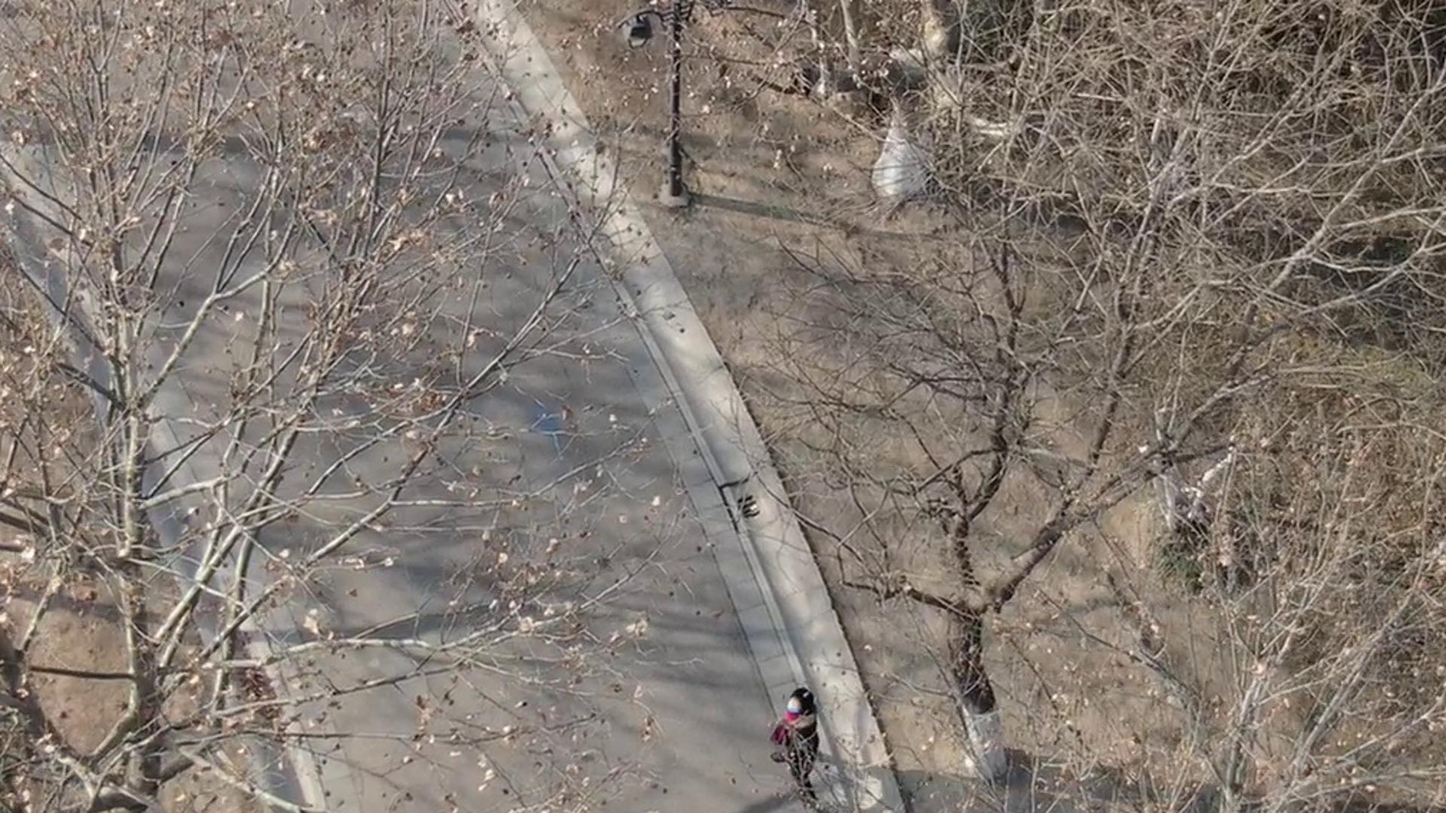human: (776, 678, 833, 780)
